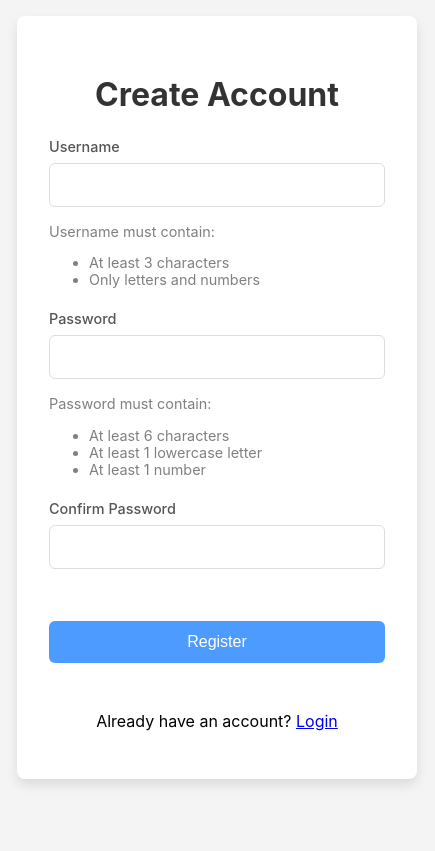
Test: Register page tests › should show error if password does not meet complexity requirements
In the field labelled "Username": (217, 184) [49,162,385,206], type "validuser"
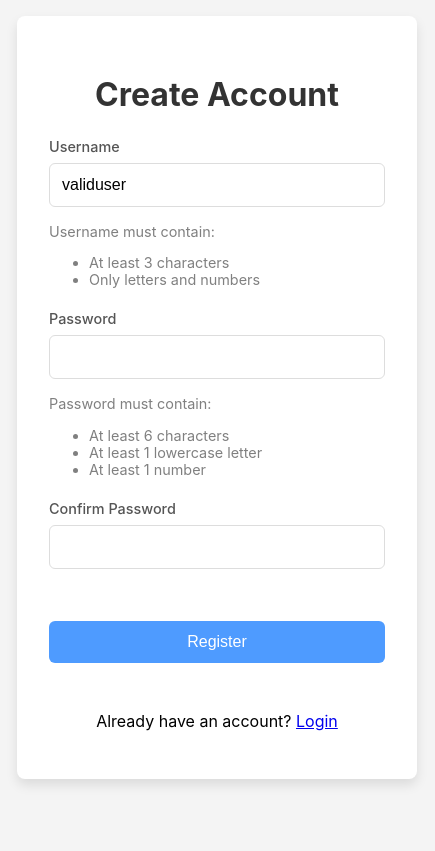
In the password field with test id "password": (217, 357) [49,335,385,379], type "short"
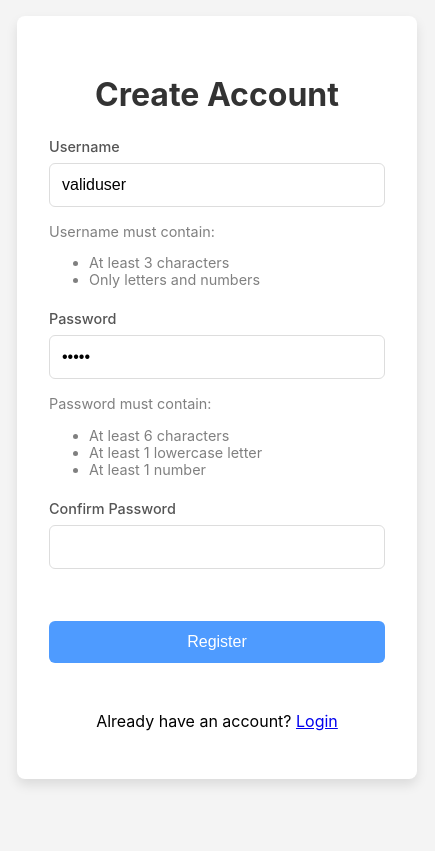
In the password field labelled "Confirm Password": (217, 547) [49,525,385,569], type "short"
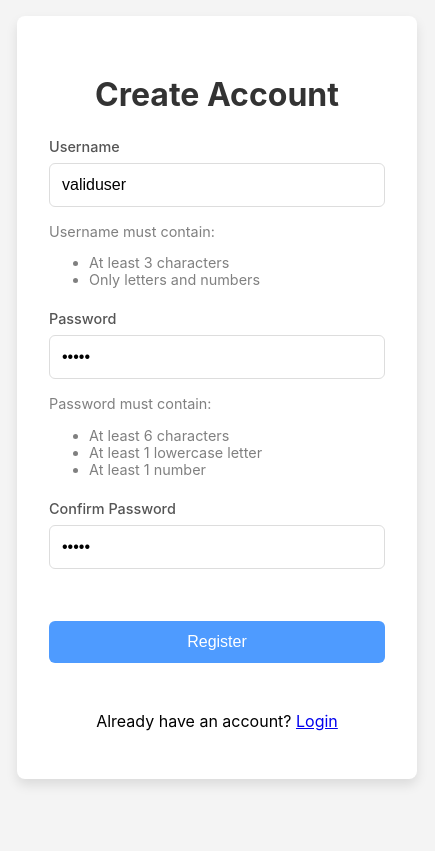
Click the button "Register": (217, 642) [49,621,385,663]
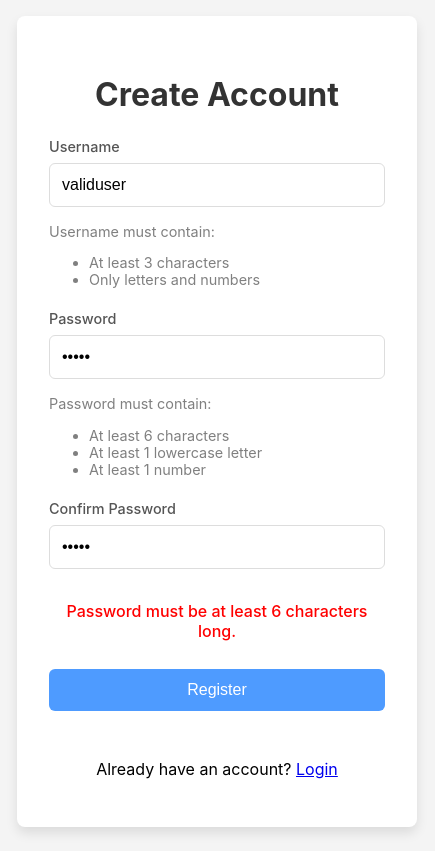
Expected: the text "Password must be at least 6 characters long." is shown, [49,601,385,641]
